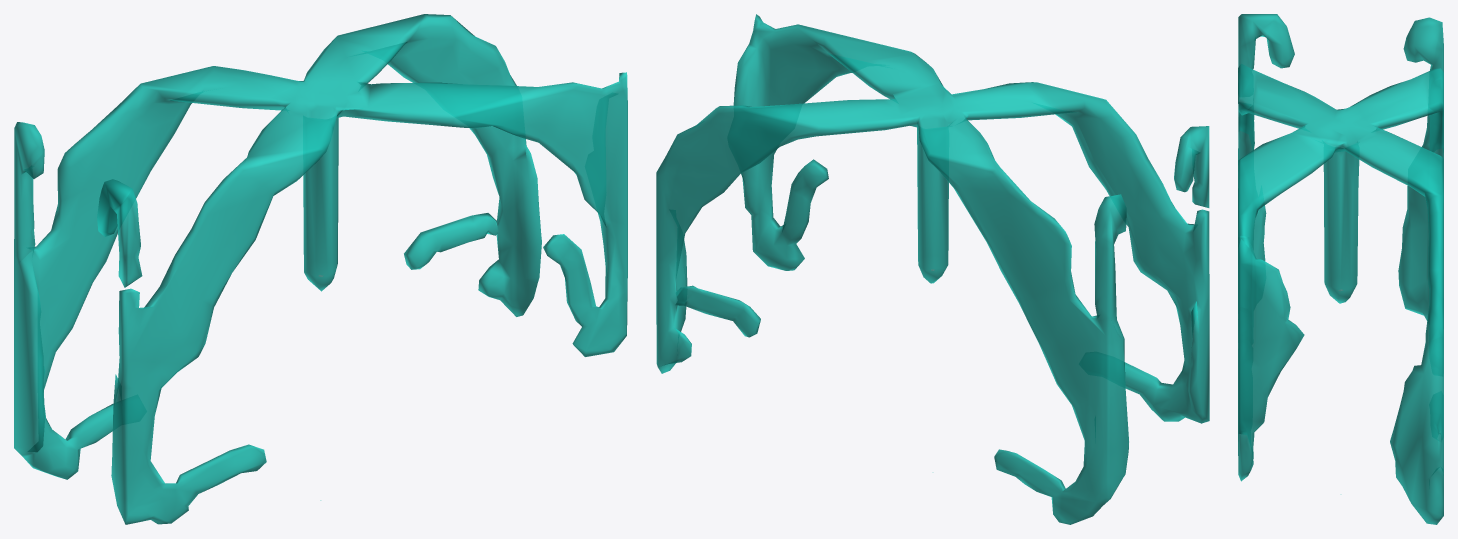
The picture shows the model from 3 angles, left to right: view 1: azimuth 30°, elevation 25°; view 2: azimuth 150°, elevation 25°; view 3: azimuth 270°, elevation 25°; orthographic projection. The views are drawn at different scales.
Visible parts, largest first — view 1: Liquid_Domain; view 2: Liquid_Domain; view 3: Liquid_Domain.
Part boxes in pixels (x1,y1,x2,y2): Liquid_Domain: (14,14,627,524); Liquid_Domain: (656,14,1209,524); Liquid_Domain: (1238,14,1443,524).
Size of the model in its own units: 884 by 683 by 344.
